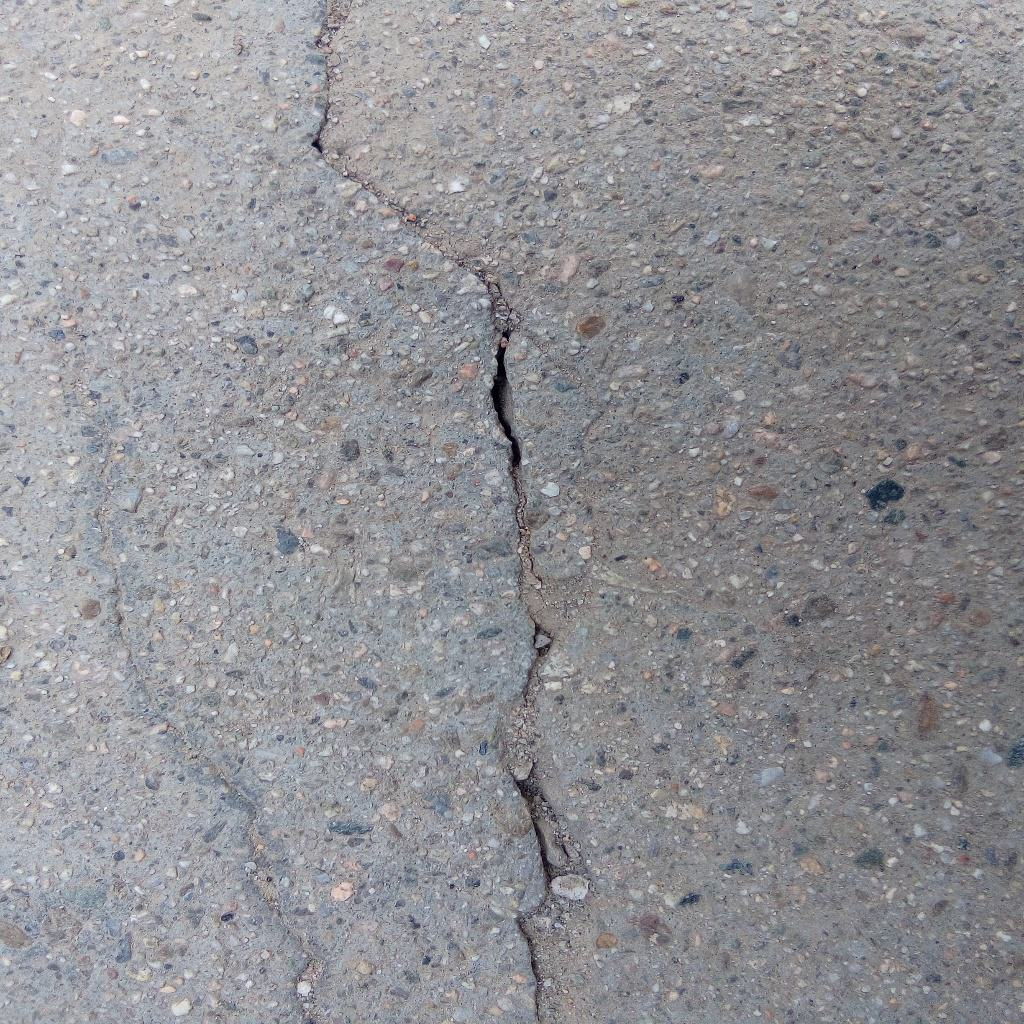Crack: (310, 1, 576, 1024)
